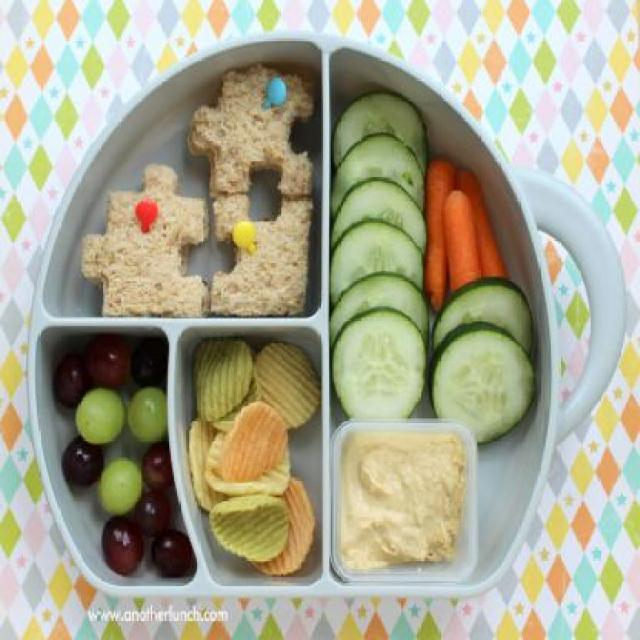Zucchini: (429, 326, 540, 444), (324, 305, 428, 421), (328, 173, 426, 267), (432, 277, 530, 366), (326, 272, 432, 352), (333, 132, 424, 222), (331, 219, 420, 301), (332, 94, 426, 166)
